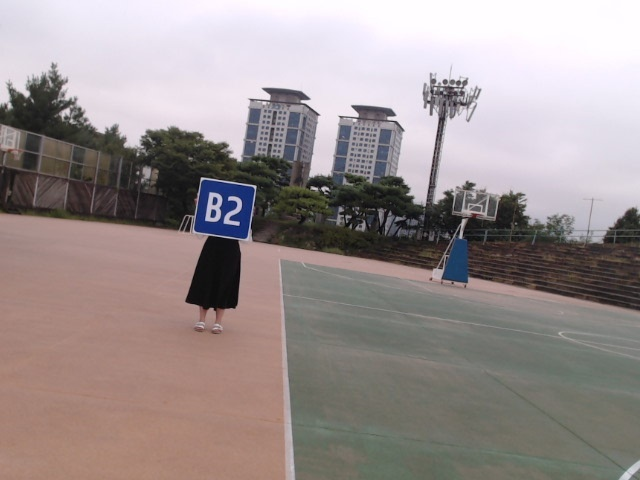delivery_b2: (193, 178, 256, 240)
